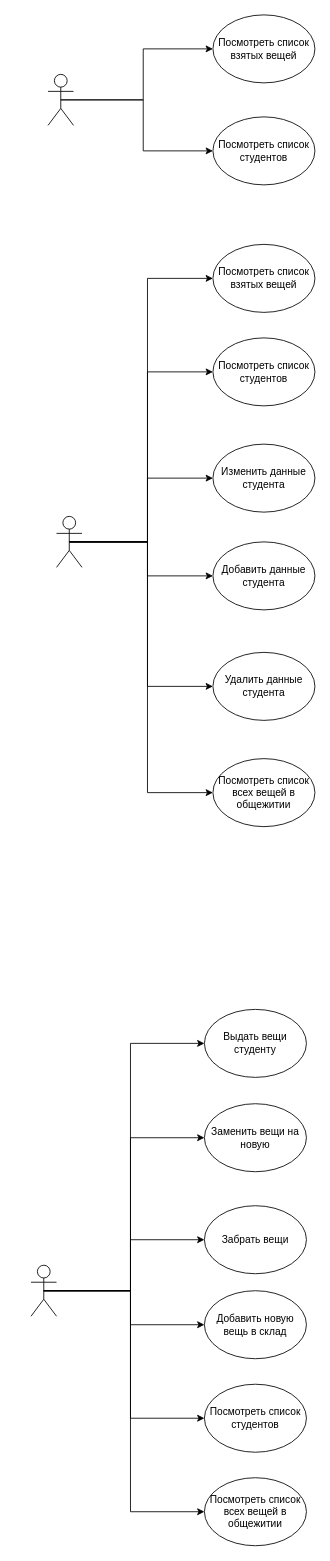
Image size: 330x1561. Some labels were removed from this diagram. Each missing label, with the centre of its shape:
"Комендант" belongs at point 69,541.
"Менеджер" belongs at point 43,1290.
"Студент" belongs at point 60,99.
